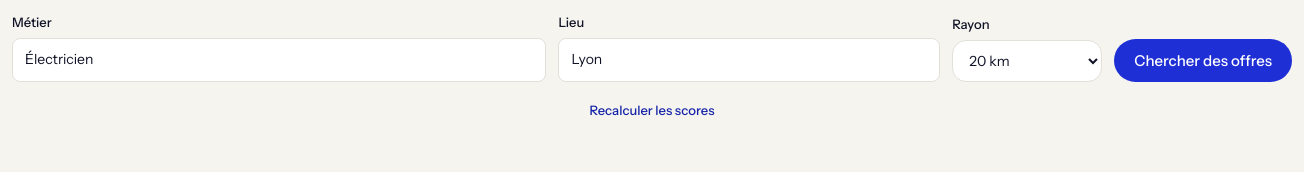
Scenario: SearchControls › affiche le message de quota renvoyé par l'API quand la recherche est refusée (429)
Step 1. Click the button "Chercher des offres" → (1203, 60), box x1=1114 y1=39 x2=1292 y2=82
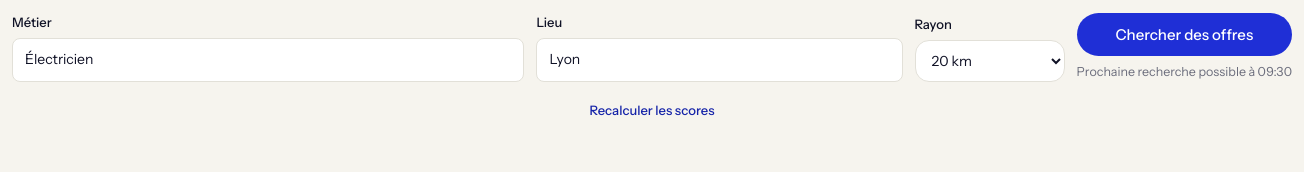
Expected: the message reads "Prochaine recherche possible à 09:30", x1=1076 y1=64 x2=1292 y2=80
